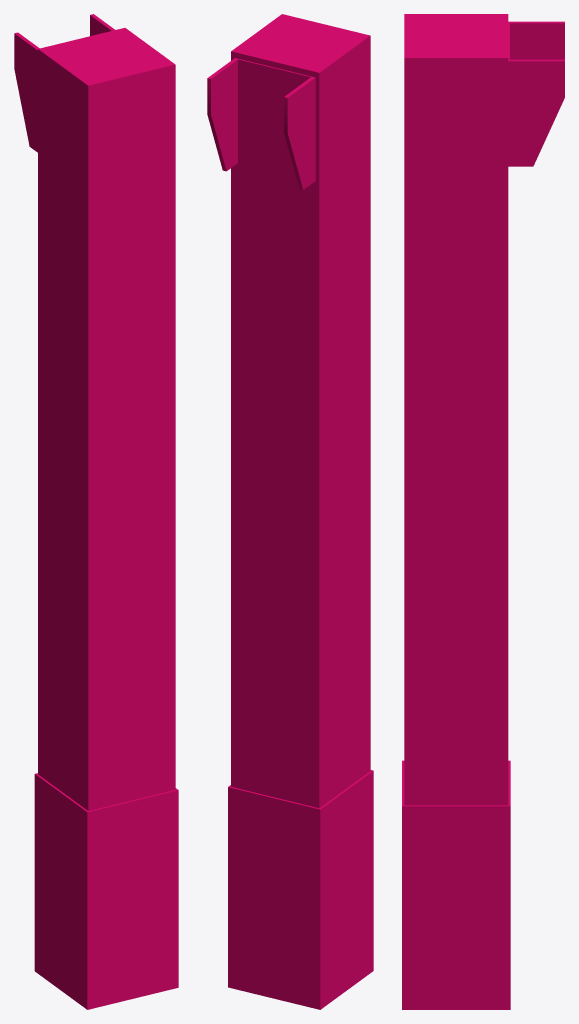
File: Factory_Pillar_01_Lod0.fbx
The picture shows the model from 3 angles, left to right: view 1: azimuth 30°, elevation 25°; view 2: azimuth 150°, elevation 25°; view 3: azimuth 270°, elevation 25°; orthographic projection. The views are drawn at different scales.
Parts seen in each view (by area): view 1: Factory_Pillar_01_Lod0; view 2: Factory_Pillar_01_Lod0; view 3: Factory_Pillar_01_Lod0.
Boxes of the visible parts, x1,y1,x2,y2 form: Factory_Pillar_01_Lod0: (14, 14, 178, 1009); Factory_Pillar_01_Lod0: (207, 14, 373, 1009); Factory_Pillar_01_Lod0: (402, 14, 564, 1009).
Bounding box in the file's own units: 64.95 × 628 × 97.47.
